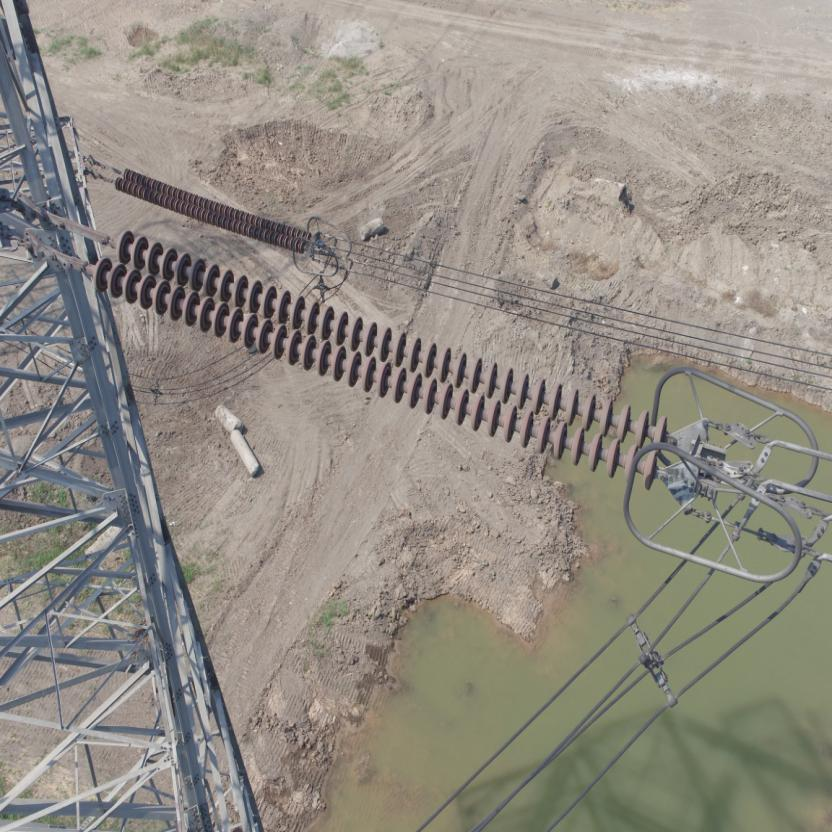insulator: (51, 226, 683, 493), (98, 163, 316, 255)
